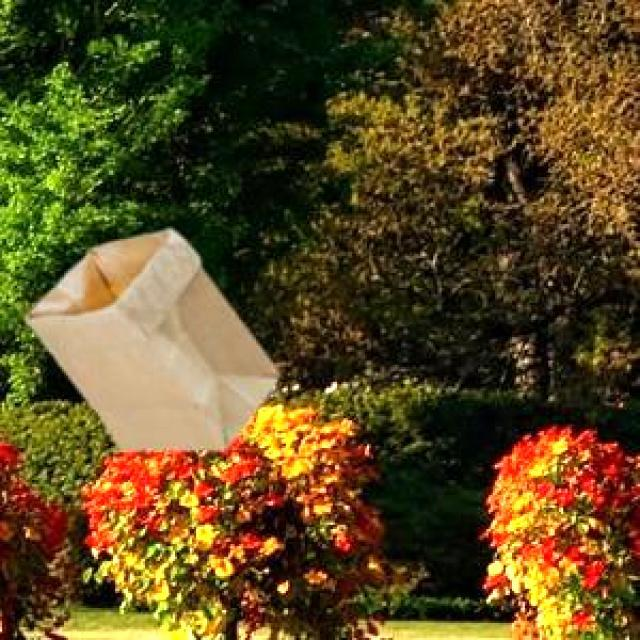Paper_Bag: (22, 225, 276, 447)
